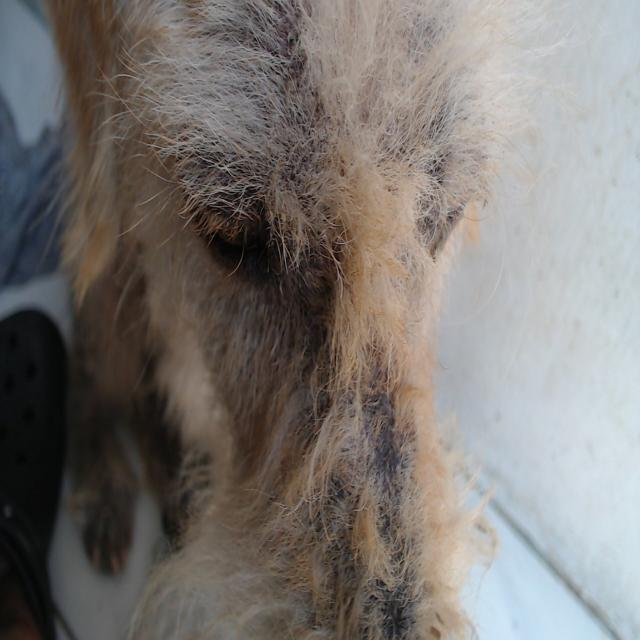demodicosis: (299, 359, 416, 598)
